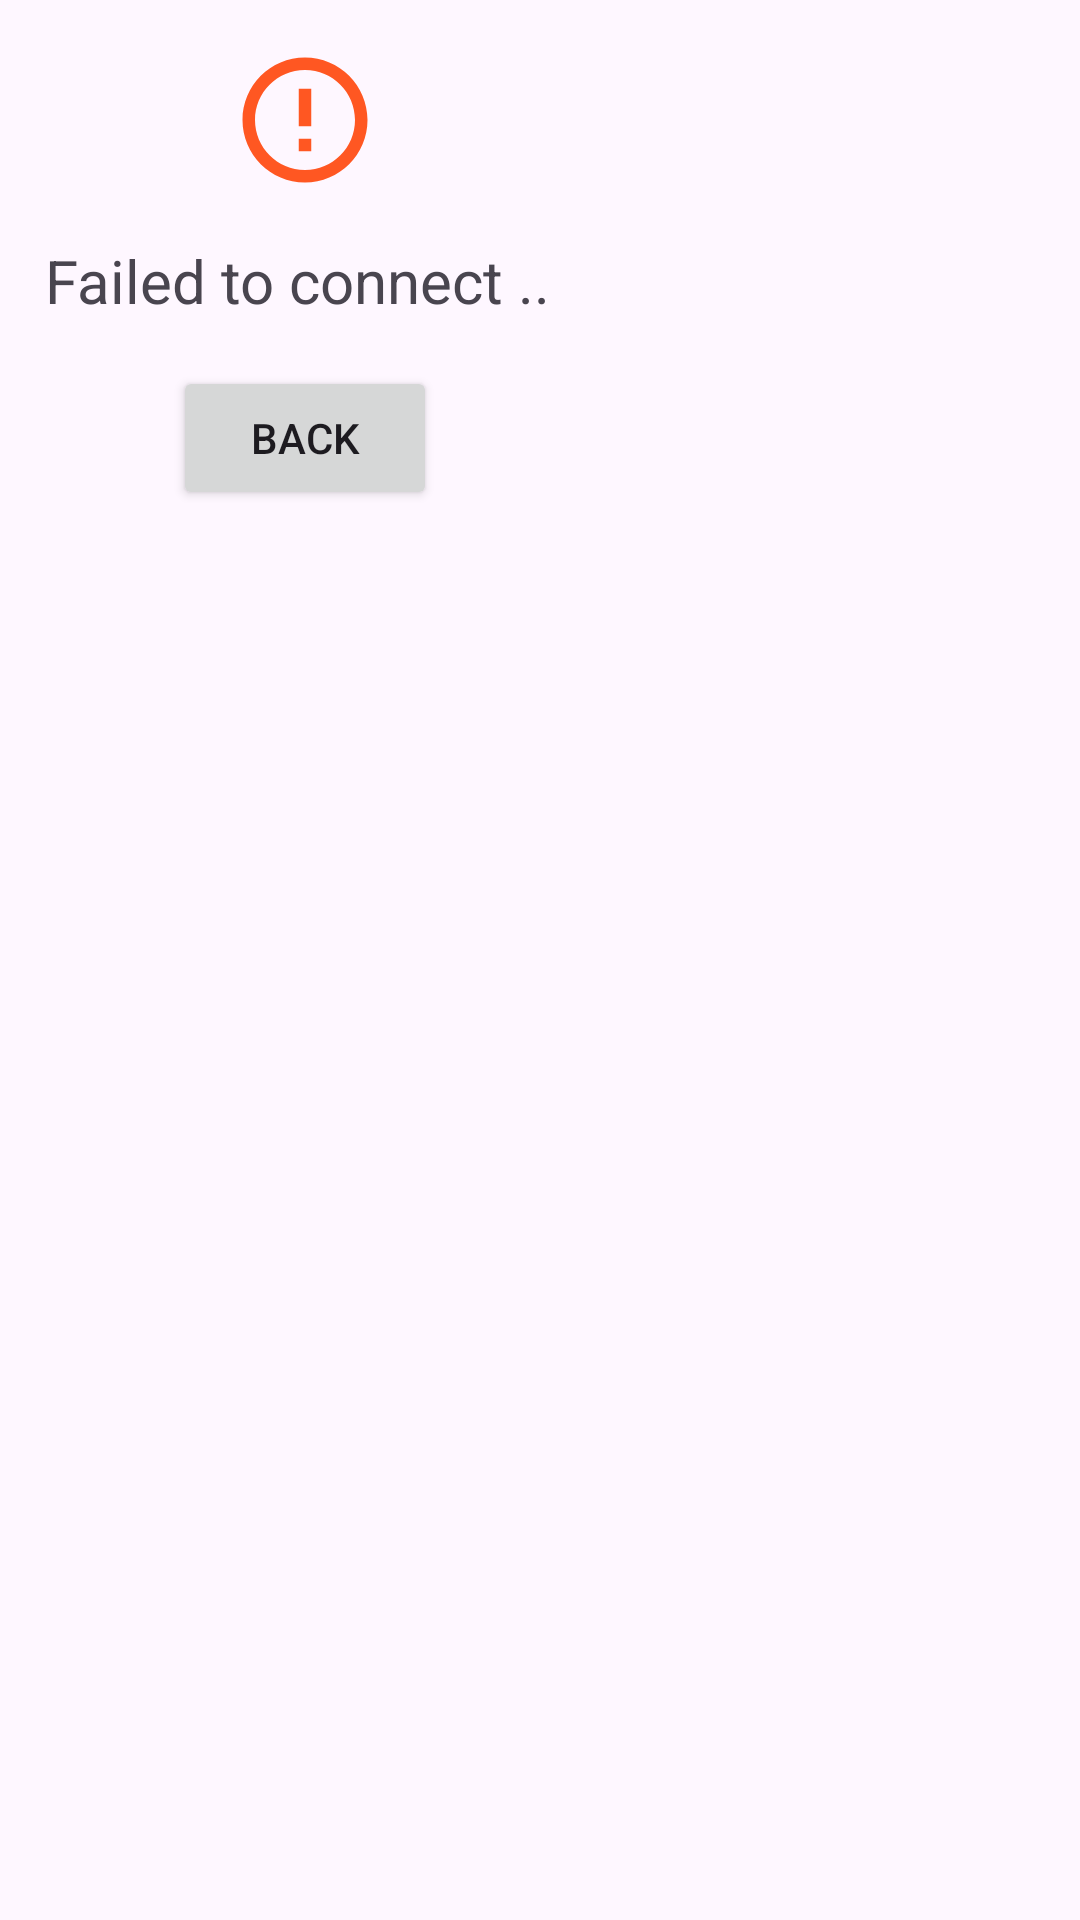

Named icons in this screenshot (1080px x 1920px) and their bounding boxes, [x1, y1, x2, y2]:
error: [242, 57, 368, 183]
